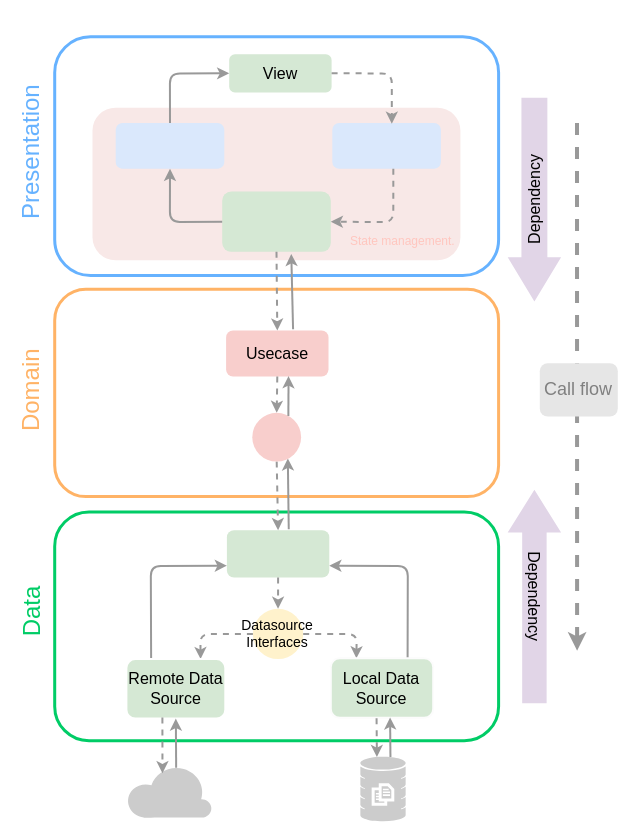
The diagram is 636 pixels wide and 839 high, and some of its shapes have lost their labels. The centre of each missing label's shape, as x and y in pixels:
Event: point 386,145
Reducer: point 276,221
Repository: point 277,553
Repository Interfaces: point 276,436
State: point 169,145
